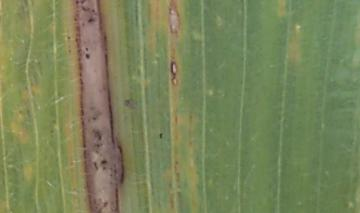tarspot: (123, 98, 136, 110), (94, 130, 103, 142), (92, 160, 101, 172), (87, 17, 96, 24), (84, 52, 91, 60), (102, 201, 109, 209), (158, 131, 164, 140), (83, 46, 90, 53), (100, 159, 108, 165), (91, 7, 96, 15), (79, 1, 88, 5), (66, 35, 71, 40)
